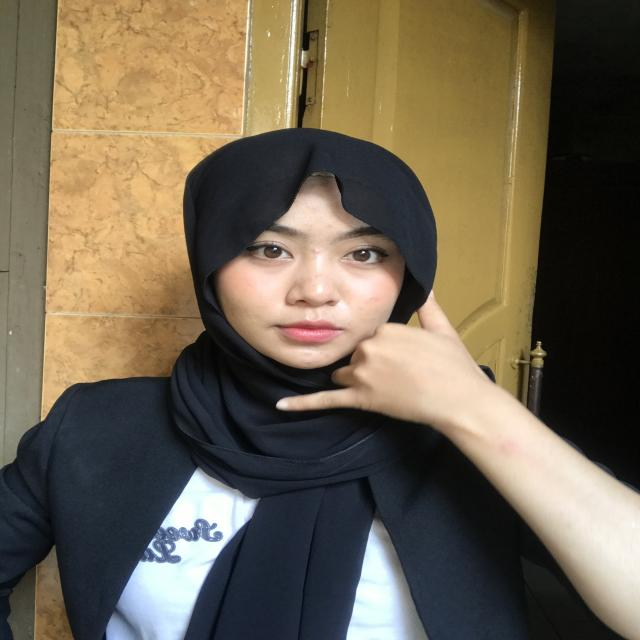telpon: (279, 270, 502, 460)
